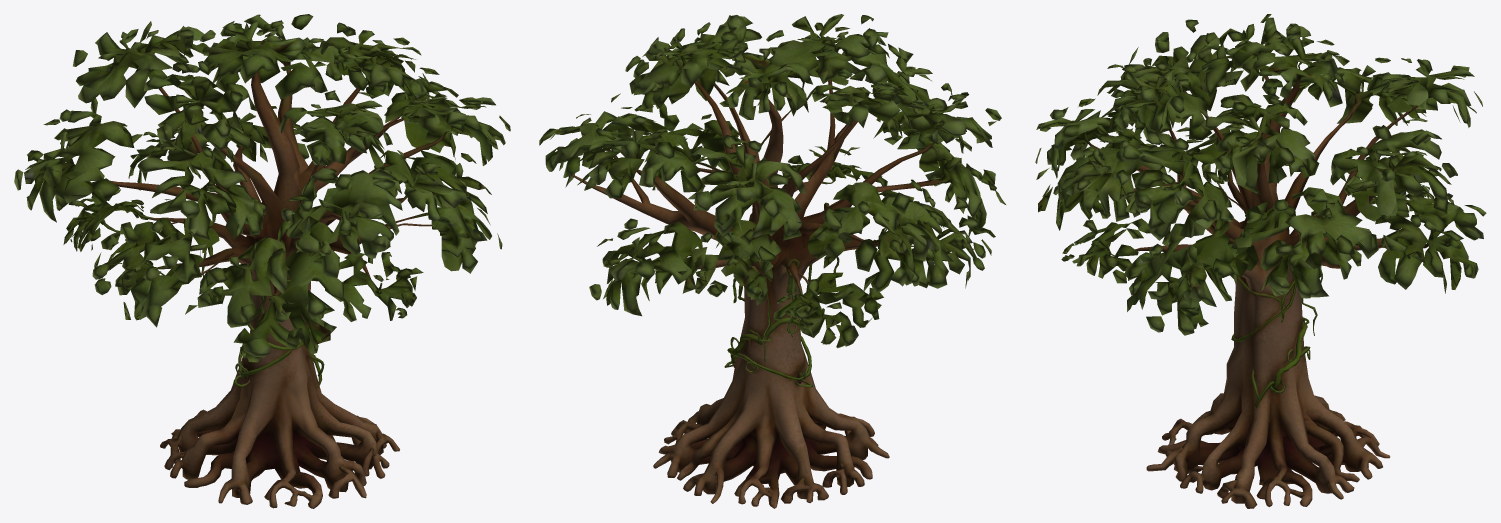
The model's file is jun_kapok_tree_buttress.glb.
3 renders of one model, left to right at view 1: azimuth 30°, elevation 25°; view 2: azimuth 150°, elevation 25°; view 3: azimuth 270°, elevation 25°, orthographic. The views are drawn at different scales.
Visible parts, largest first — view 1: tripo_node_eeae2858-041e-427f-a393-b277f6530104; view 2: tripo_node_eeae2858-041e-427f-a393-b277f6530104; view 3: tripo_node_eeae2858-041e-427f-a393-b277f6530104.
Part boxes in pixels (x1,y1,x2,y2): tripo_node_eeae2858-041e-427f-a393-b277f6530104: (14, 14, 510, 508); tripo_node_eeae2858-041e-427f-a393-b277f6530104: (539, 14, 1005, 508); tripo_node_eeae2858-041e-427f-a393-b277f6530104: (1035, 14, 1486, 508).
Bounding box in the file's own units: 0.998 × 0.9902 × 0.9805.
1 material, 1 textured.
